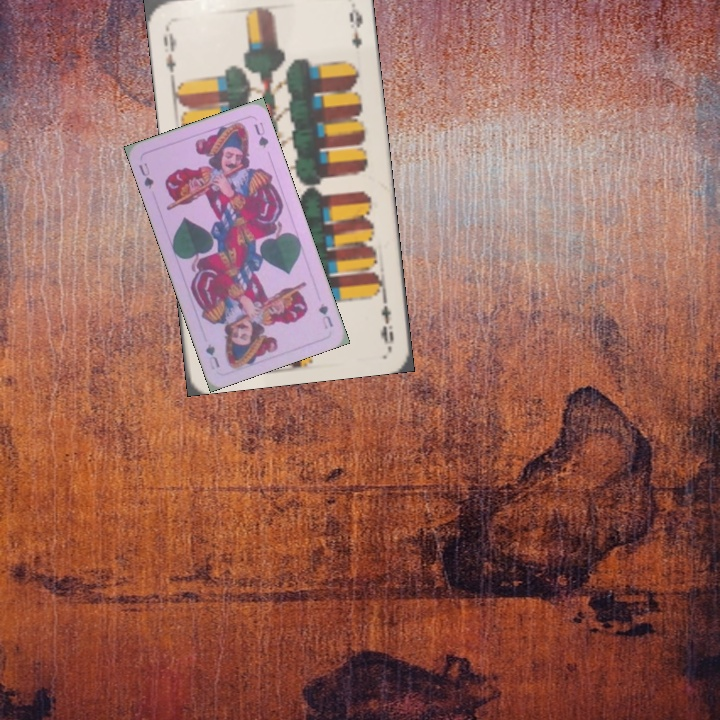E9: (370, 288, 397, 347), (159, 21, 179, 75)
GU: (314, 299, 336, 332), (134, 159, 156, 191)
